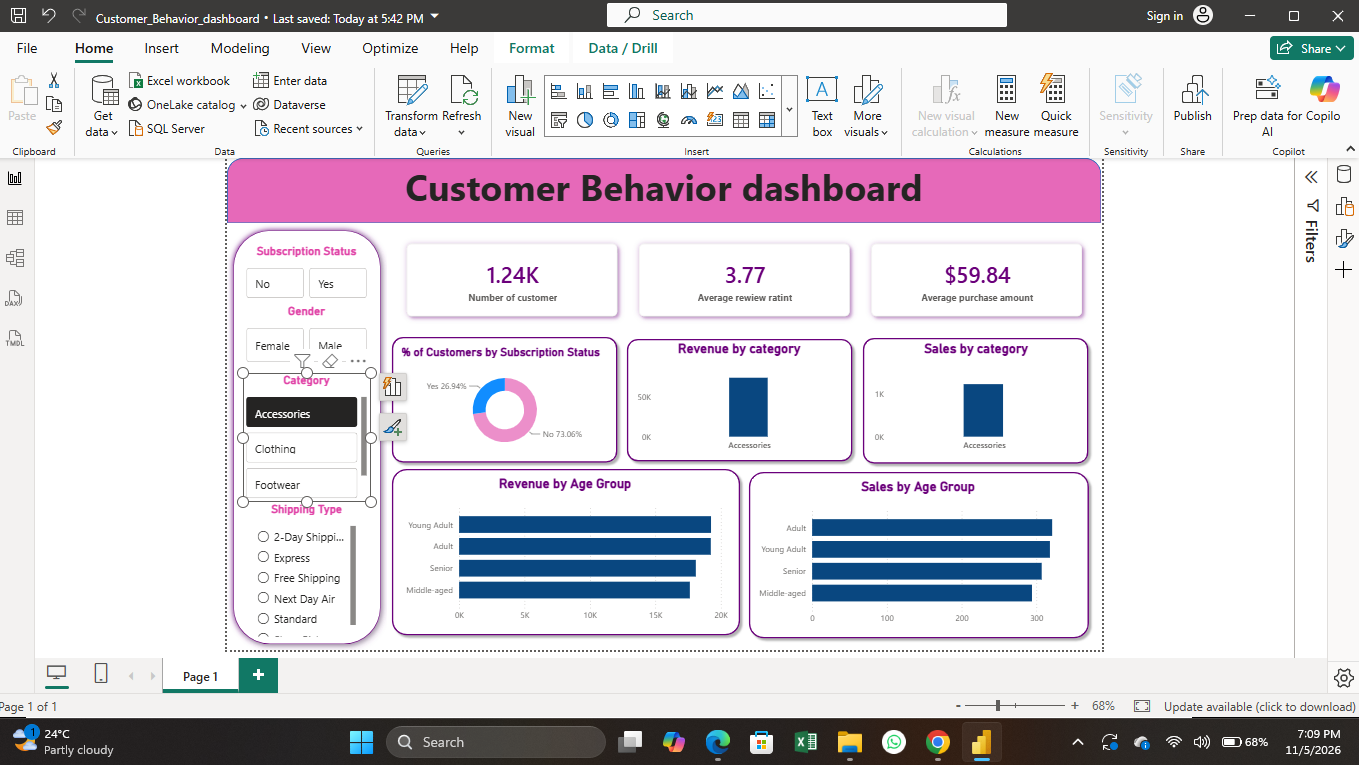

Layout of this report page (visuals, bound fields, positions):
{"tool":"powerbi","page":{"name":"Page 1","canvas":[1280,720],"ordinal":0},"visuals":[{"type":"cardVisual","fields":{"Data":["public customer.Number of customer","public customer.Average rewiew ratint","public customer.Average purchase amount"]},"box":[234,96,1046,164],"z":0},{"type":"shape","box":[0,0,1279.4,95.2],"z":1000},{"type":"textbox","box":[0,0,1279.4,95.2],"z":2000},{"type":"shape","box":[234,254,344.4,198.4],"z":3000},{"type":"donutChart","title":"% of Customers by Subscription Status","fields":{"Category":["public customer.subscription_status"],"Y":["CountNonNull(public customer.customer_id)"]},"box":[250,274,312.7,160.3],"z":4000},{"type":"shape","box":[923.8,255.6,344.4,198.4],"z":5000},{"type":"shape","box":[578,258,344.4,193.7],"z":6000},{"type":"clusteredColumnChart","title":"Revenue by category","fields":{"Y":["Sum(public customer.purchase_amount)"],"Category":["public customer.category"]},"box":[596,268,308,170],"z":7000},{"type":"clusteredColumnChart","title":"Sales by category","fields":{"Category":["public customer.category"],"Y":["CountNonNull(public customer.customer_id)"]},"box":[942,268,308,170],"z":8000},{"type":"shape","box":[0,96,234,624],"z":9000},{"type":"advancedSlicerVisual","fields":{"Values":["public customer.subscription_status"]},"box":[24,126,186,84],"z":10000},{"type":"advancedSlicerVisual","fields":{"Values":["public customer.gender"]},"box":[24,214,186,90],"z":11000},{"type":"advancedSlicerVisual","fields":{"Values":["public customer.category"]},"box":[24,314,186,190],"z":11001},{"type":"listSlicer","fields":{"Values":["public customer.shipping_type"]},"box":[40,504,154,202],"z":11002},{"type":"shape","box":[234,448,524,258],"z":11004},{"type":"clusteredBarChart","title":"Revenue by Age Group","fields":{"Y":["Sum(public customer.purchase_amount)"],"Category":["public customer.age_group"]},"box":[252,466,486,222],"z":11005},{"type":"shape","box":[756,452,512,258],"z":11006},{"type":"clusteredBarChart","title":"Sales by Age Group","fields":{"Y":["CountNonNull(public customer.customer_id)"],"Category":["public customer.age_group"]},"box":[768,470,486,222],"z":11007}]}

Visuals, with their boxes on the page's 1280x720 design canvas (x1, y1, x2, y2). These are canvas units, not pixel positions in the 1359x765 screenshot, which may show the page scaled, cropped or inside an application window:
cardVisual - public customer.Number of customer x public customer.Average rewiew ratint: region(234, 96, 1280, 260)
shape: region(0, 0, 1279, 95)
textbox: region(0, 0, 1279, 95)
shape: region(234, 254, 578, 452)
"% of Customers by Subscription Status" donutChart: region(250, 274, 563, 434)
shape: region(924, 256, 1268, 454)
shape: region(578, 258, 922, 452)
"Revenue by category" clusteredColumnChart: region(596, 268, 904, 438)
"Sales by category" clusteredColumnChart: region(942, 268, 1250, 438)
shape: region(0, 96, 234, 720)
advancedSlicerVisual - public customer.subscription_status: region(24, 126, 210, 210)
advancedSlicerVisual - public customer.gender: region(24, 214, 210, 304)
advancedSlicerVisual - public customer.category: region(24, 314, 210, 504)
listSlicer - public customer.shipping_type: region(40, 504, 194, 706)
shape: region(234, 448, 758, 706)
"Revenue by Age Group" clusteredBarChart: region(252, 466, 738, 688)
shape: region(756, 452, 1268, 710)
"Sales by Age Group" clusteredBarChart: region(768, 470, 1254, 692)
